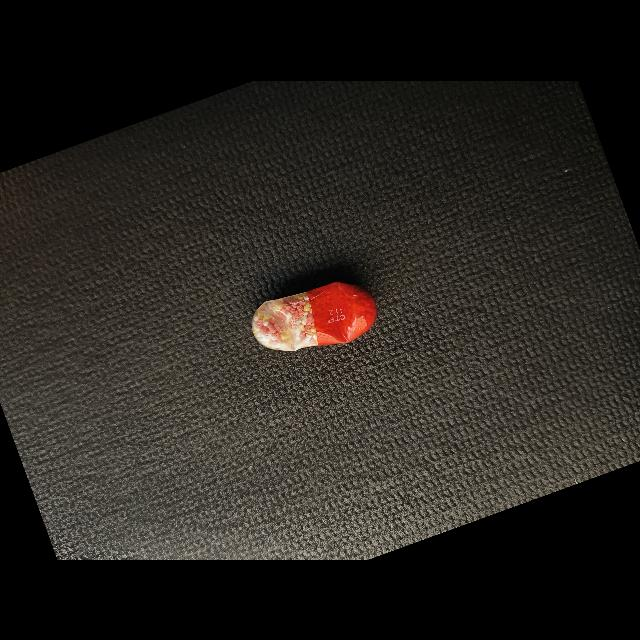Defective Capsule: (252, 281, 377, 351)
